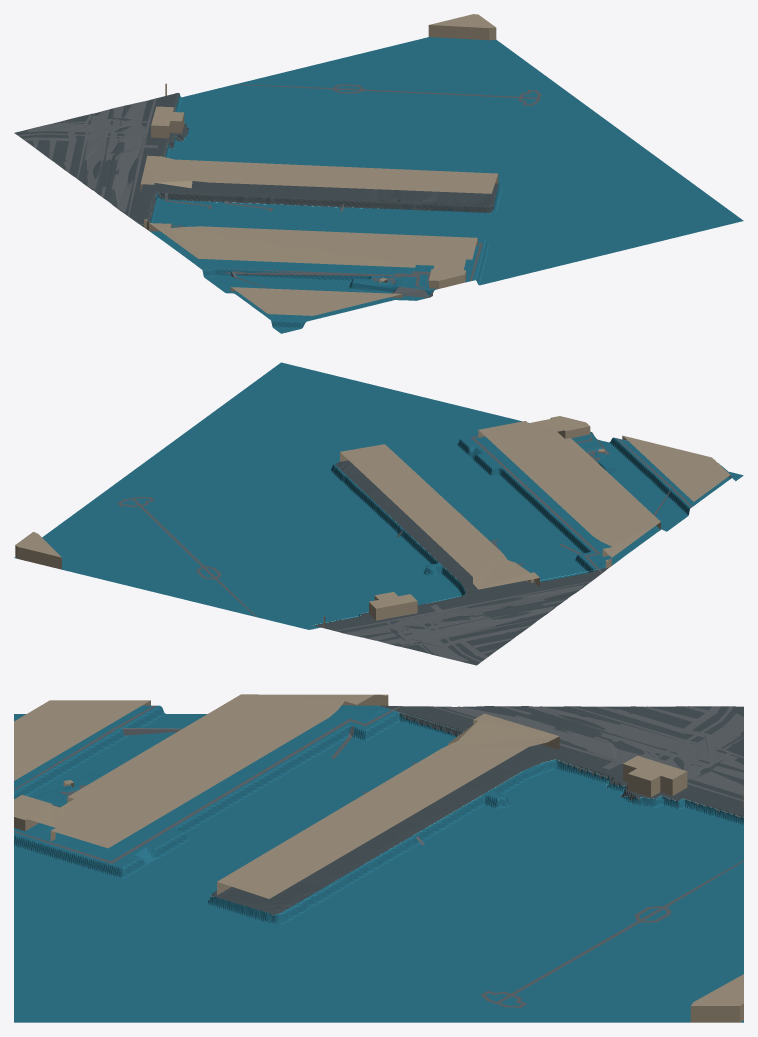
File: epsg26910-1440-10895.lod0.glb
3 renders of one model, top to bottom at view 1: azimuth 30°, elevation 25°; view 2: azimuth 150°, elevation 25°; view 3: azimuth 270°, elevation 25°, orthographic. The views are drawn at different scales.
Visible parts, largest first — view 1: epsg26910-1440-10895-lod0; view 2: epsg26910-1440-10895-lod0; view 3: epsg26910-1440-10895-lod0.
Part boxes in pixels (x1,y1,x2,y2): epsg26910-1440-10895-lod0: (14, 14, 743, 333); epsg26910-1440-10895-lod0: (14, 362, 743, 665); epsg26910-1440-10895-lod0: (14, 694, 743, 1022).
Size of the model in its own units: 384 by 13.95 by 384.
